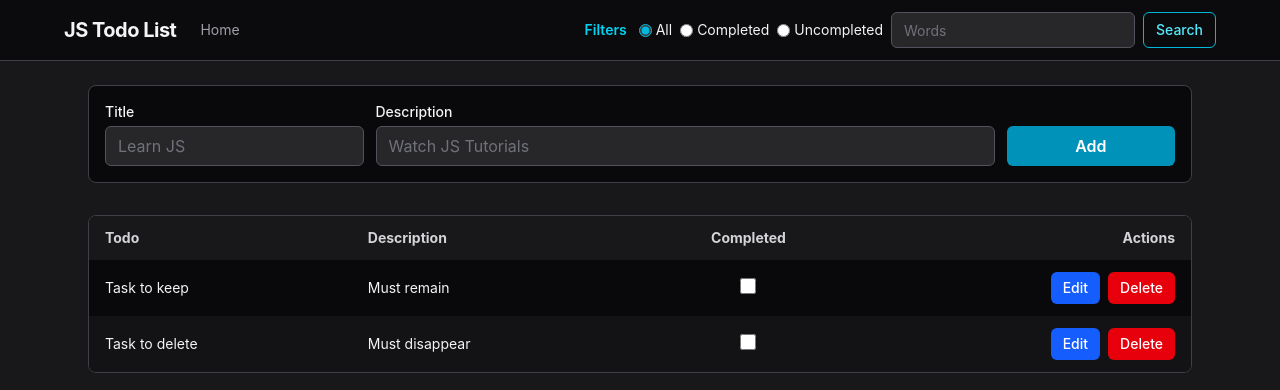
Test case: US5 - Delete Tasks › removes the selected task from the list when Delete is clicked
Check: the text "Task to delete" is shown, box 105,335 -> 198,352
Click the button "Delete" in the row of "Task to delete".
click(1142, 344)  # box 1108,328 -> 1175,360
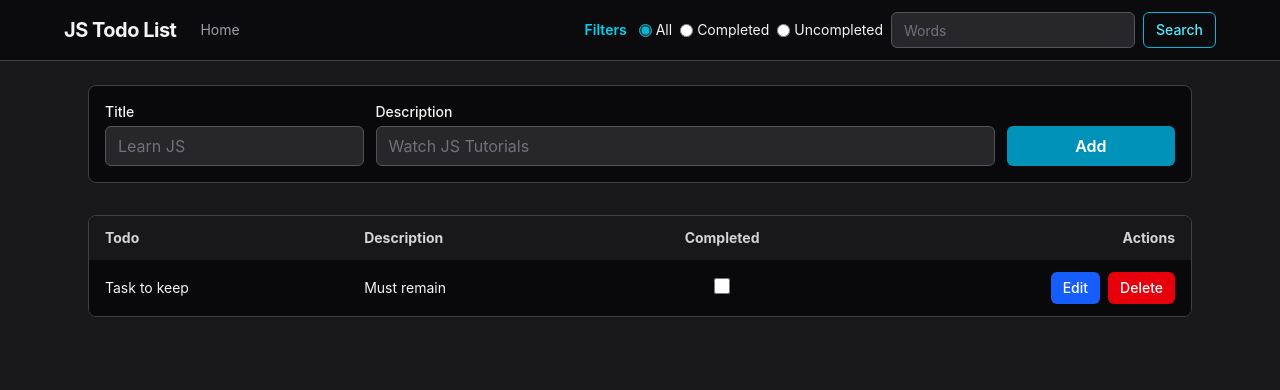
Check: the text "Task to keep" is shown, box 89,260 -> 348,316
Check: the text "Task to delete" is gone
